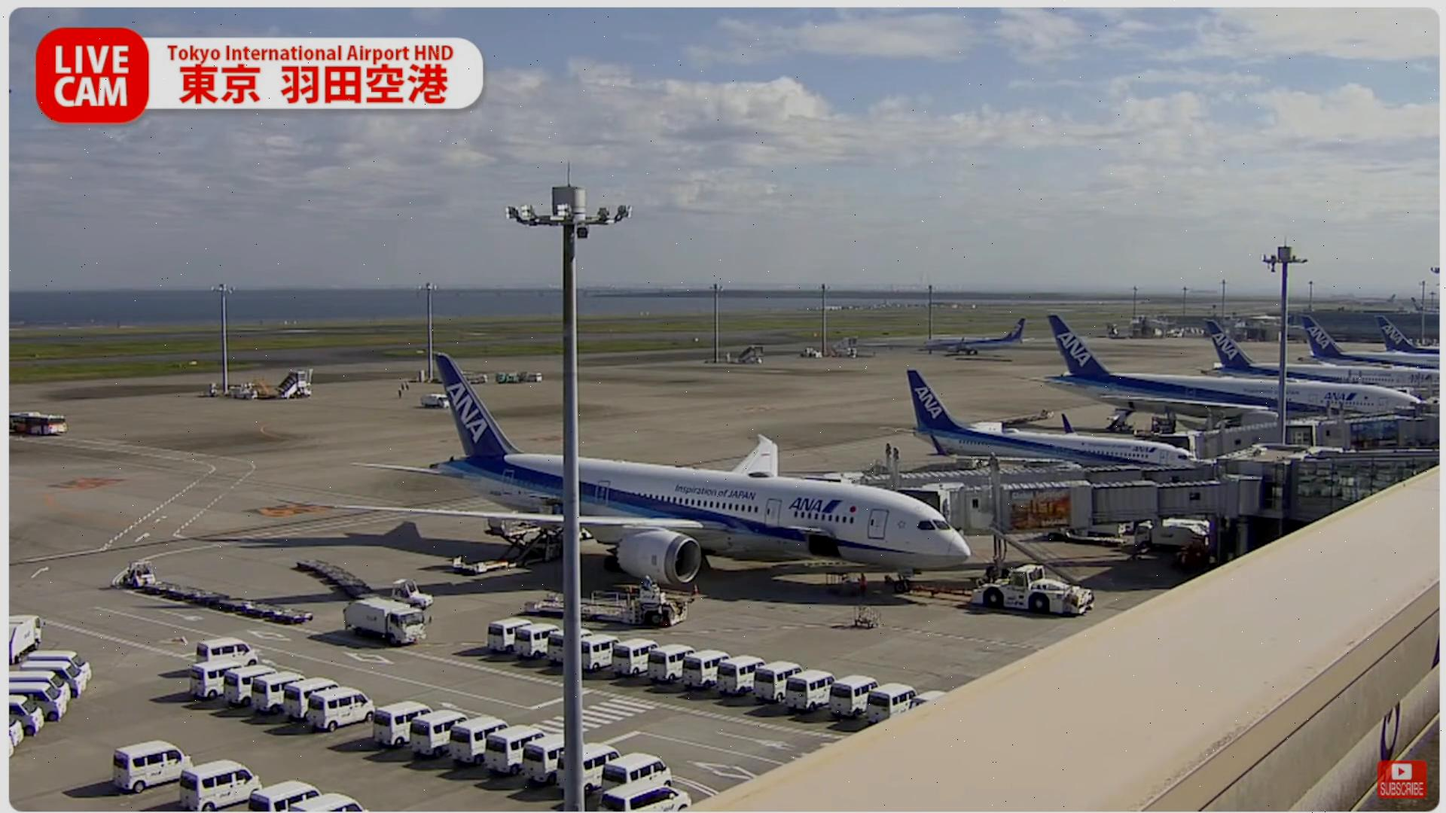APS: (969, 564, 1106, 619)
Aerobridge: (899, 476, 1264, 540), (843, 457, 1217, 496)
Airplane: (330, 354, 973, 599)
Baggage truck: (343, 596, 430, 643)
Dolly: (142, 578, 315, 624), (294, 556, 389, 597)
JCPL: (525, 579, 698, 628), (450, 522, 565, 575)
Tractor: (390, 577, 436, 608), (119, 562, 157, 589)
Window: (1290, 456, 1440, 523)
